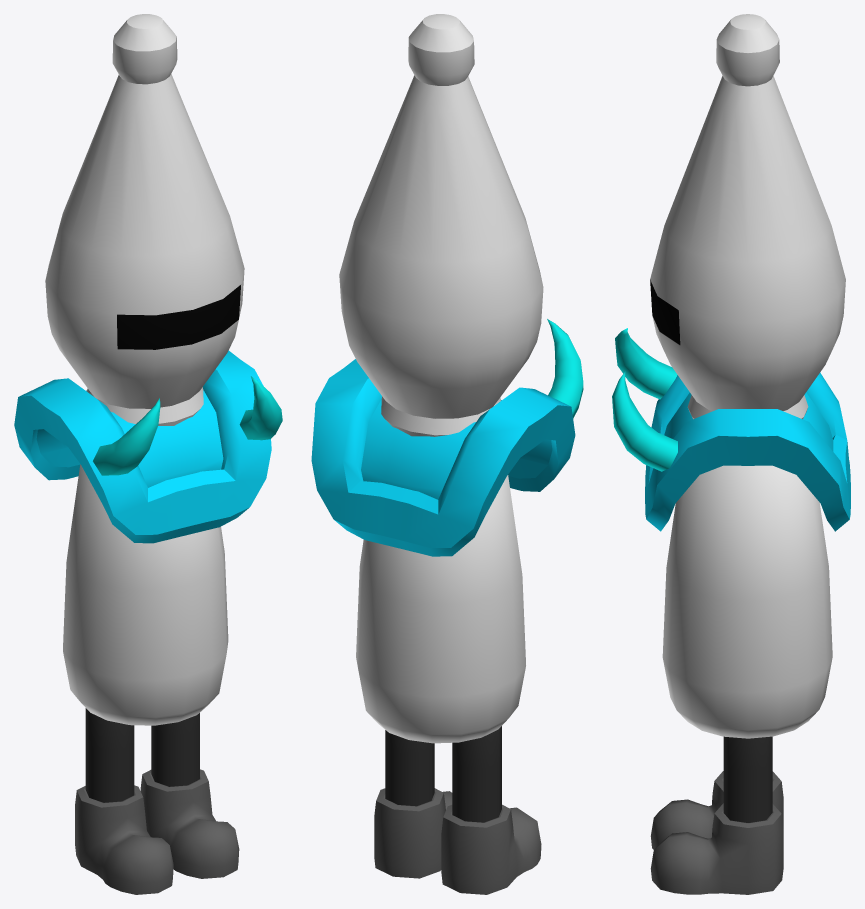
The model's file is Alfil.fbx.
The picture shows the model from 3 angles, left to right: view 1: azimuth 30°, elevation 25°; view 2: azimuth 150°, elevation 25°; view 3: azimuth 270°, elevation 25°; orthographic projection. The views are drawn at different scales.
Parts seen in each view (by area): view 1: Alfil; view 2: Alfil; view 3: Alfil.
Boxes of the visible parts, <box> form: Alfil: <box>14,14,282,894</box>; Alfil: <box>311,14,583,894</box>; Alfil: <box>612,14,850,894</box>.
Bounding box in the file's own units: 0.9672 × 3.96 × 1.01.
